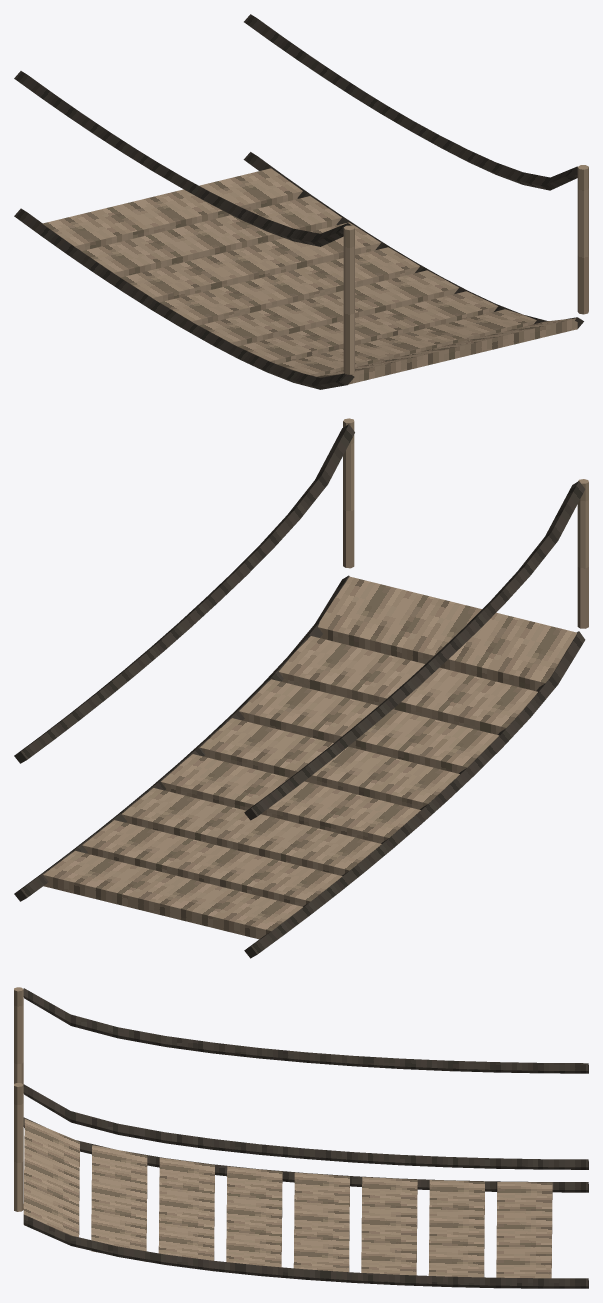
Rendered from BridgeStart.fbx.
3 views of the same model, one above another, from view 1: azimuth 30°, elevation 25°; view 2: azimuth 150°, elevation 25°; view 3: azimuth 270°, elevation 25° (orthographic). The views are drawn at different scales.
Visible parts, largest first — view 1: bridge_start; view 2: bridge_start; view 3: bridge_start.
Boxes of the visible parts, bbox=[...] form: bridge_start: bbox=[14, 14, 588, 389]; bridge_start: bbox=[14, 418, 588, 958]; bridge_start: bbox=[14, 987, 588, 1288].
Size of the model in its own units: 0.9546 by 0.8891 by 2.26.
